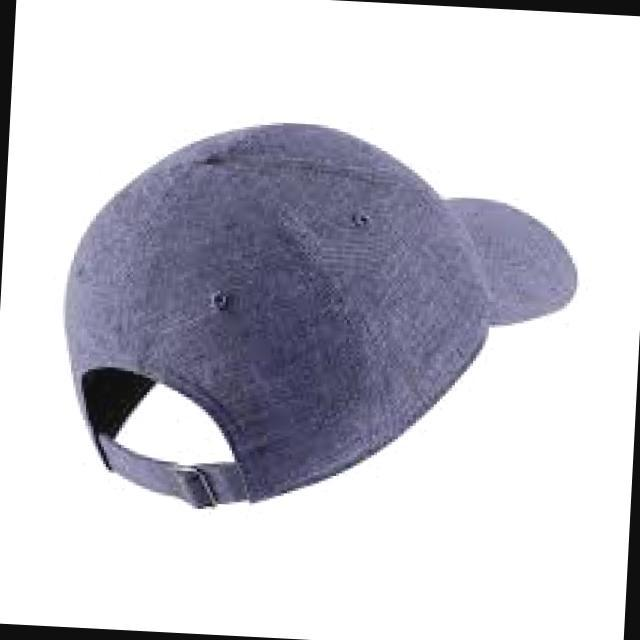cap: (28, 96, 617, 539)
